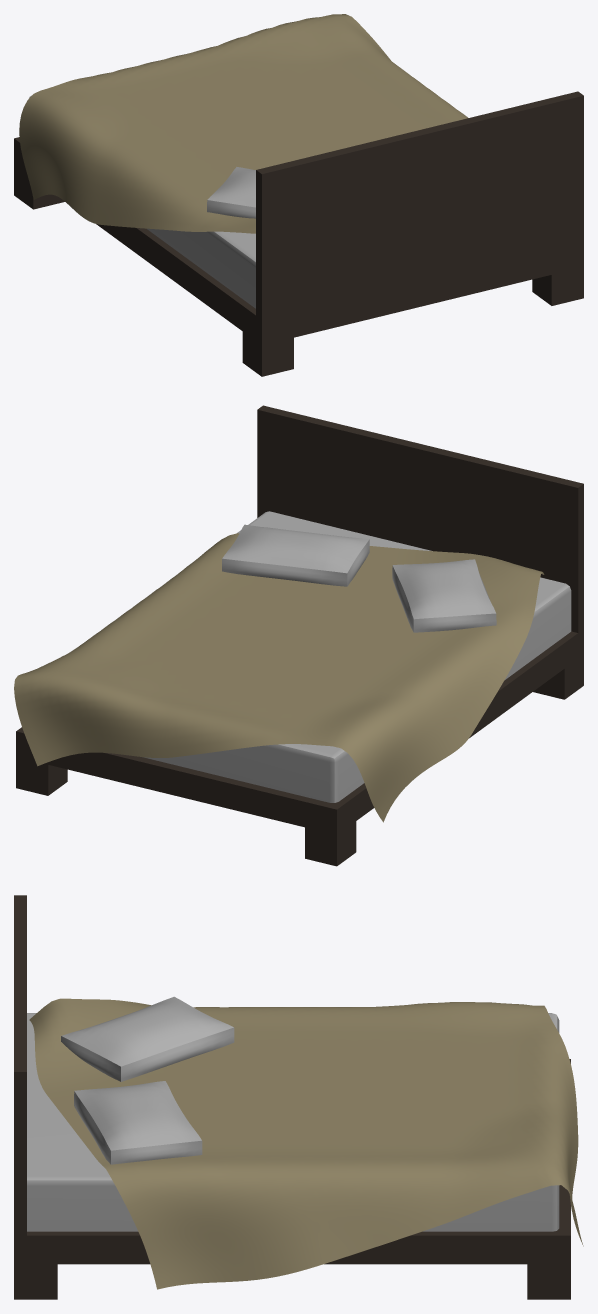
Rendered from UnorganizedBed.fbx.
The picture shows the model from 3 angles, top to bottom: view 1: azimuth 30°, elevation 25°; view 2: azimuth 150°, elevation 25°; view 3: azimuth 270°, elevation 25°; orthographic projection. The views are drawn at different scales.
Visible parts, largest first — view 1: UnorganizedBed1; view 2: UnorganizedBed1; view 3: UnorganizedBed1.
Part boxes in pixels (x1,y1,x2,y2): UnorganizedBed1: (14, 14, 583, 376); UnorganizedBed1: (14, 405, 583, 866); UnorganizedBed1: (14, 895, 583, 1299).
Bounding box in the file's own units: 1.82 × 0.9415 × 2.14.
